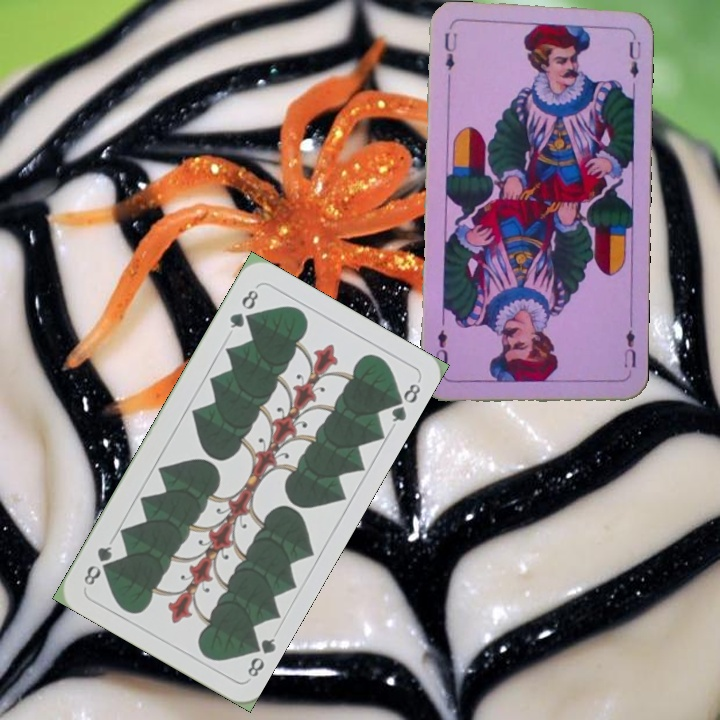EU: (620, 326, 638, 378), (440, 28, 459, 73)
G8: (243, 633, 279, 680), (225, 285, 261, 331)
